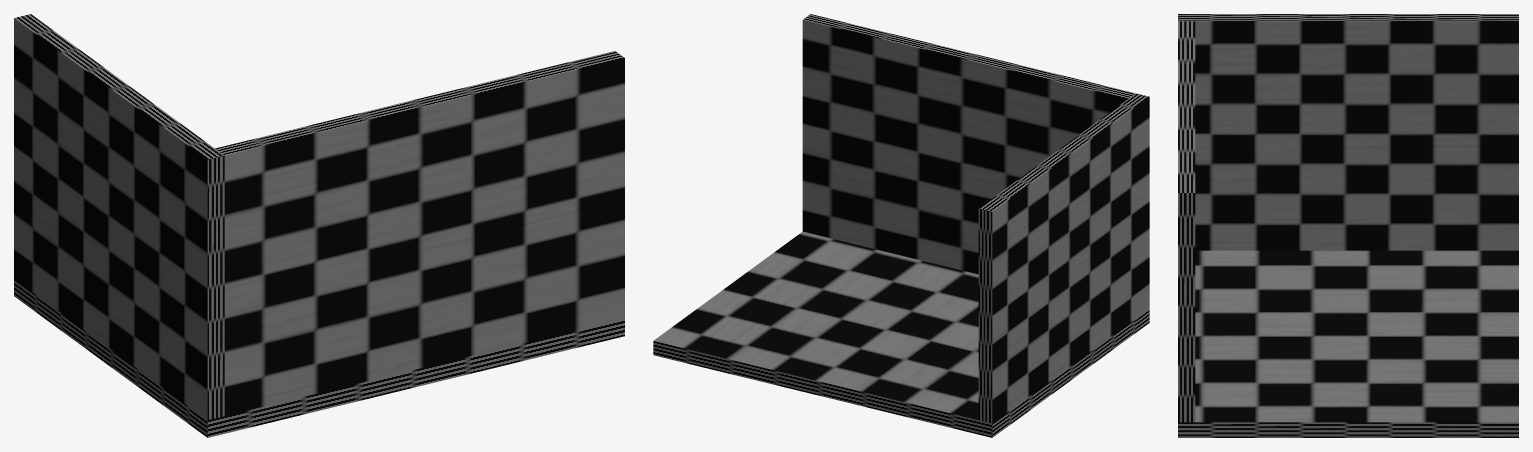
The model's file is axisPlanes.fbx.
The picture shows the model from 3 angles, left to right: view 1: azimuth 30°, elevation 25°; view 2: azimuth 150°, elevation 25°; view 3: azimuth 270°, elevation 25°; orthographic projection. The views are drawn at different scales.
Visible parts, largest first — view 1: wall.001; view 2: wall.001; view 3: wall.001.
Boxes of the visible parts, x1=… form: wall.001: x1=14, y1=14, x2=624, y2=437; wall.001: x1=653, y1=14, x2=1149, y2=437; wall.001: x1=1178, y1=14, x2=1518, y2=437.
Size of the model in its own units: 5646 by 4537 by 3598.
1 material, 1 textured.
